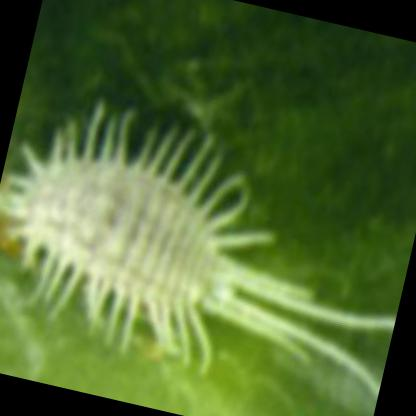mealy bug: (19, 111, 390, 392)
